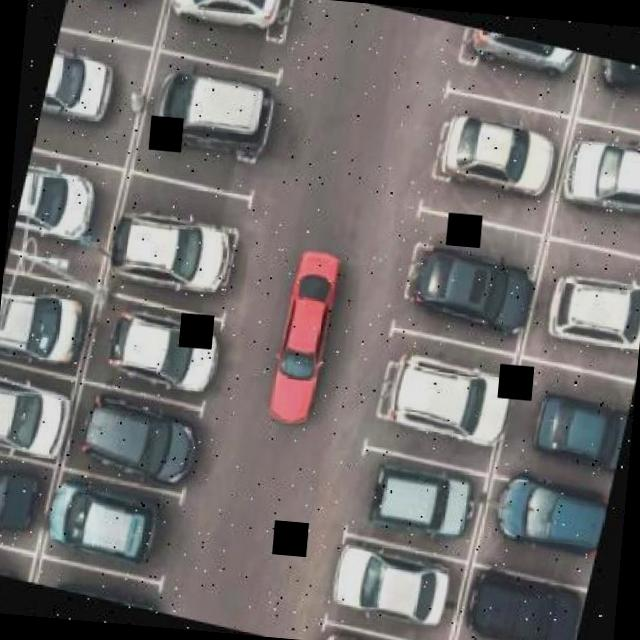car: (262, 242, 351, 439), (372, 350, 514, 447), (320, 540, 454, 634), (75, 401, 210, 494), (406, 242, 534, 336), (366, 442, 481, 546), (104, 302, 224, 400), (150, 68, 274, 160), (490, 472, 621, 558), (430, 113, 558, 199), (461, 565, 606, 640), (42, 478, 166, 561), (104, 217, 235, 295), (528, 384, 634, 472), (17, 45, 128, 128), (8, 160, 104, 247), (540, 269, 640, 349), (459, 20, 580, 84), (0, 289, 85, 369), (0, 379, 77, 464), (561, 134, 640, 215), (163, 0, 291, 38), (0, 471, 46, 537), (596, 43, 640, 99)
